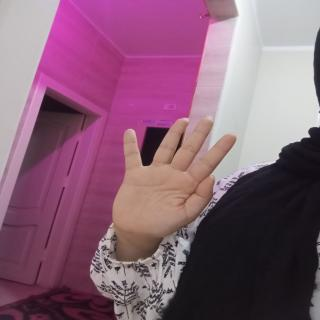SHEEN: (92, 112, 245, 250)
